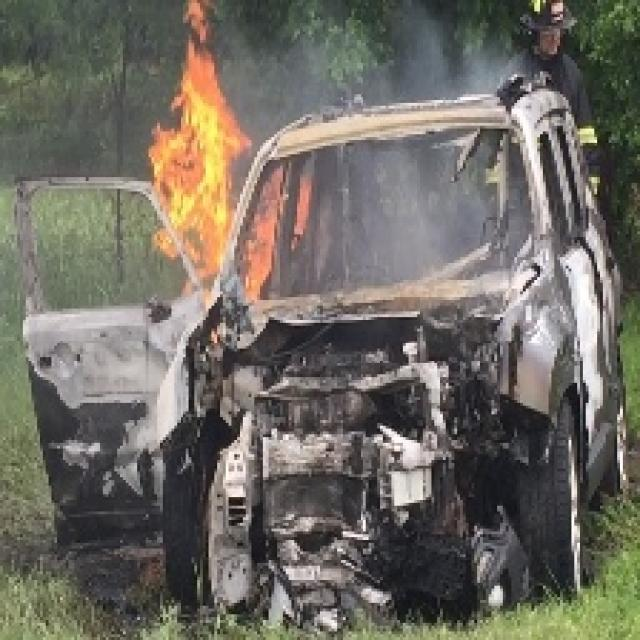fire: (148, 0, 251, 287)
